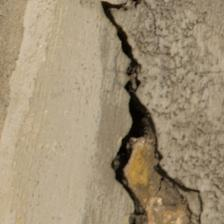Crack: (0, 34, 111, 161), (47, 48, 105, 159)
